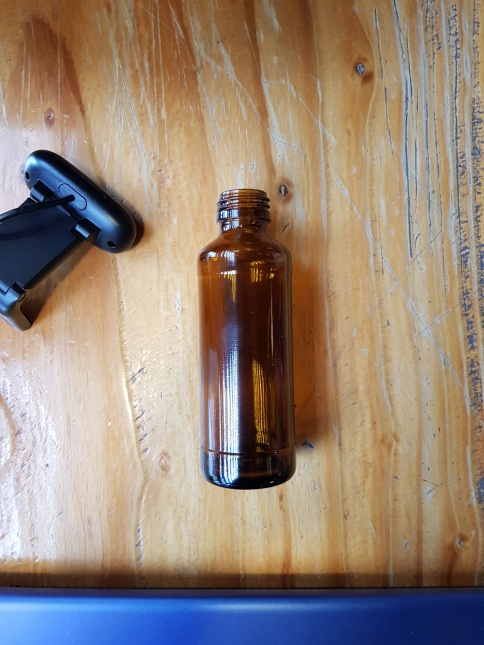Glass: (196, 185, 303, 488)
